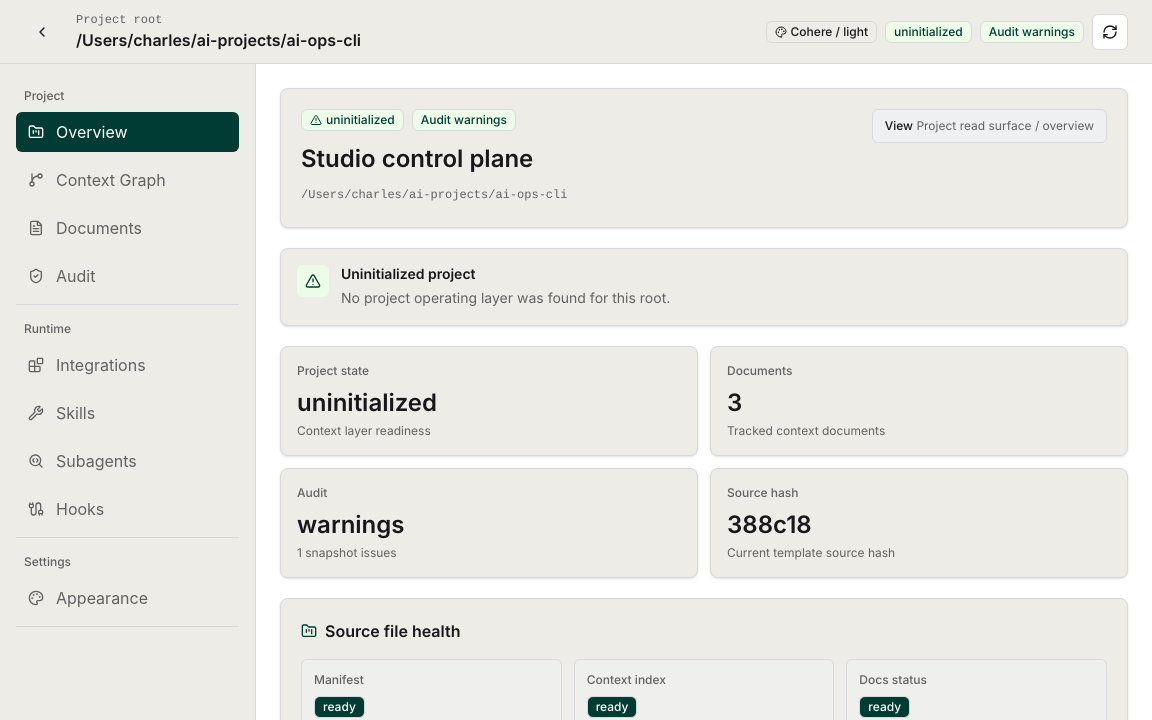
Scenario: App shell › shows empty project views for uninitialized snapshots
Click the button "Documents" at (128, 228), box left=16, top=208, right=239, bottom=248
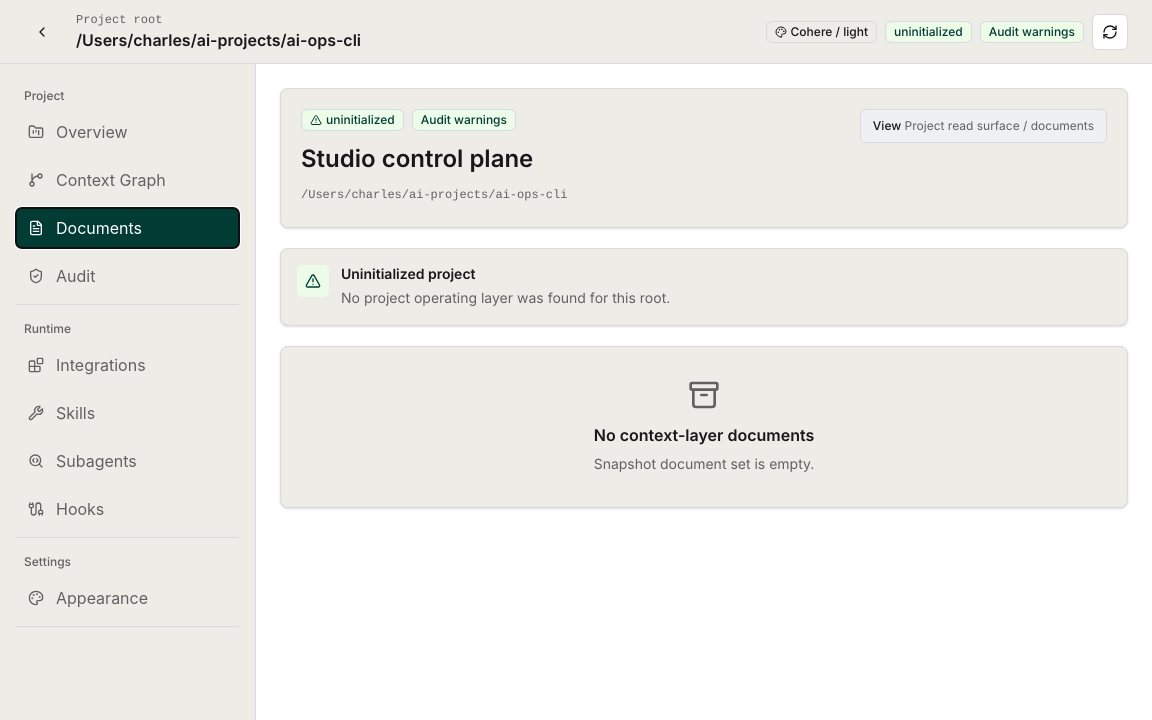
Check: the heading "Uninitialized project" is shown, box left=341, top=266, right=476, bottom=283
Check: the heading "No context-layer documents" is shown, box left=594, top=425, right=814, bottom=445
Check: the text "Snapshot document set is empty." is shown, box left=594, top=456, right=814, bottom=473
